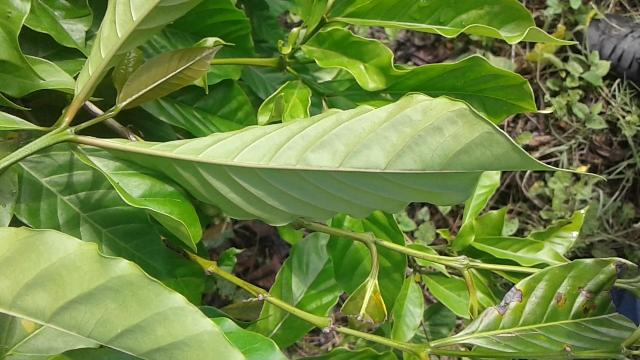healthy: (104, 94, 606, 228)
